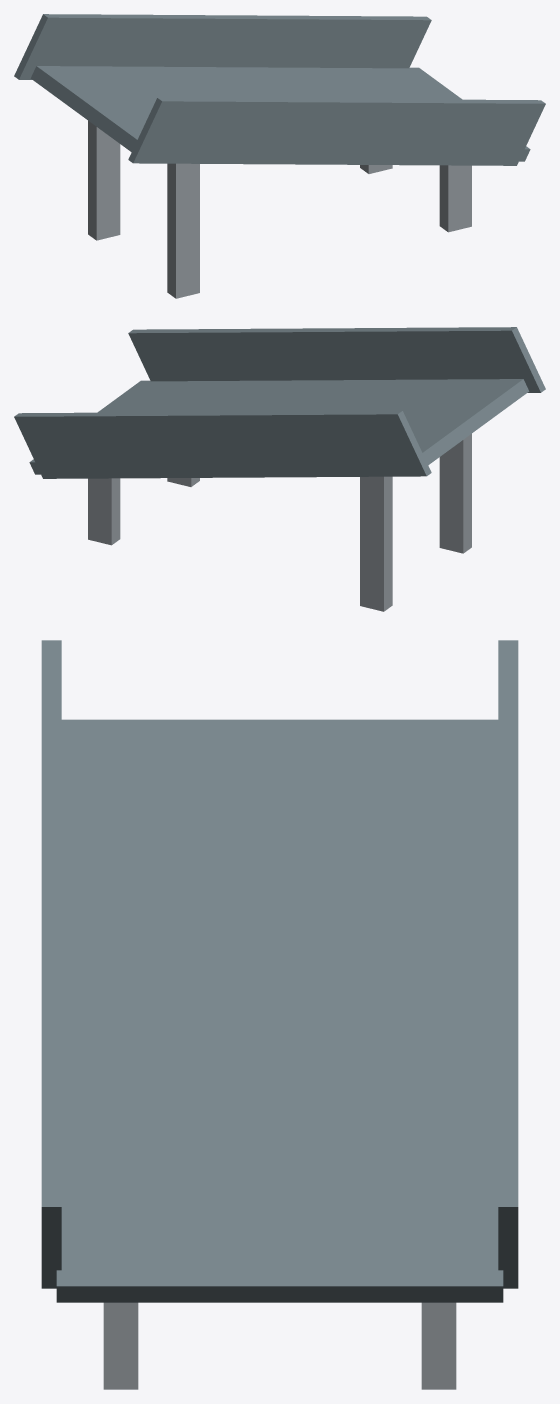
3 views of the same model, one above another, from view 1: azimuth 30°, elevation 25°; view 2: azimuth 150°, elevation 25°; view 3: azimuth 270°, elevation 25° (orthographic). The views are drawn at different scales.
Parts seen in each view (by area): view 1: g0.003, g0.001, g0, g0.006, g0.005, g0.002; view 2: g0.001, g0.003, g0, g0.005, g0.006, g0.004; view 3: g0, g0.001, g0.003, g0.004, g0.002.
Boxes of the visible parts, x1,y1,x2,y2 form: g0.003: [128, 97, 545, 165]; g0.001: [14, 14, 431, 79]; g0: [30, 66, 530, 161]; g0.006: [167, 163, 199, 298]; g0.005: [88, 120, 120, 240]; g0.002: [439, 165, 471, 232]; g0.001: [14, 410, 431, 478]; g0.003: [128, 327, 545, 392]; g0: [29, 379, 529, 474]; g0.005: [360, 476, 392, 611]; g0.006: [439, 433, 471, 553]; g0.004: [88, 478, 120, 545]; g0: [56, 719, 503, 1302]; g0.001: [498, 640, 518, 1288]; g0.003: [41, 640, 61, 1288]; g0.004: [421, 1302, 456, 1389]; g0.002: [103, 1302, 138, 1389].
Bounding box in the file's own units: 2 × 1 × 1.
